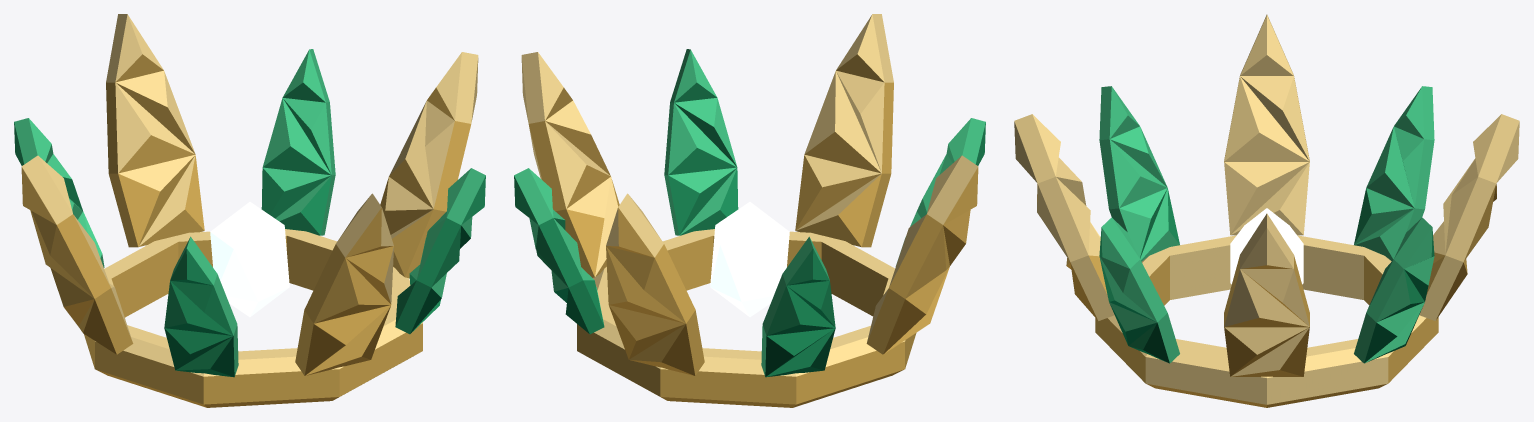
Rendered from KirinVFX_CrownLeaf.fbx.
The picture shows the model from 3 angles, left to right: view 1: azimuth 30°, elevation 25°; view 2: azimuth 150°, elevation 25°; view 3: azimuth 270°, elevation 25°; orthographic projection. The views are drawn at different scales.
Parts seen in each view (by area): view 1: KirinVFX_CrownLeaf_Body, KirinVFX_CrownLeaf_Glow_89ffd3; view 2: KirinVFX_CrownLeaf_Body, KirinVFX_CrownLeaf_Glow_89ffd3; view 3: KirinVFX_CrownLeaf_Body, KirinVFX_CrownLeaf_Glow_89ffd3.
Boxes of the visible parts, x1,y1,x2,y2 form: KirinVFX_CrownLeaf_Body: [14, 14, 485, 407]; KirinVFX_CrownLeaf_Glow_89ffd3: [210, 202, 289, 317]; KirinVFX_CrownLeaf_Body: [514, 14, 985, 407]; KirinVFX_CrownLeaf_Glow_89ffd3: [710, 202, 789, 317]; KirinVFX_CrownLeaf_Body: [1014, 14, 1519, 407]; KirinVFX_CrownLeaf_Glow_89ffd3: [1230, 208, 1303, 284].
Bounding box in the file's own units: 0.4122 × 0.2044 × 0.4122.
Materials: 2 (1 with a texture image).
